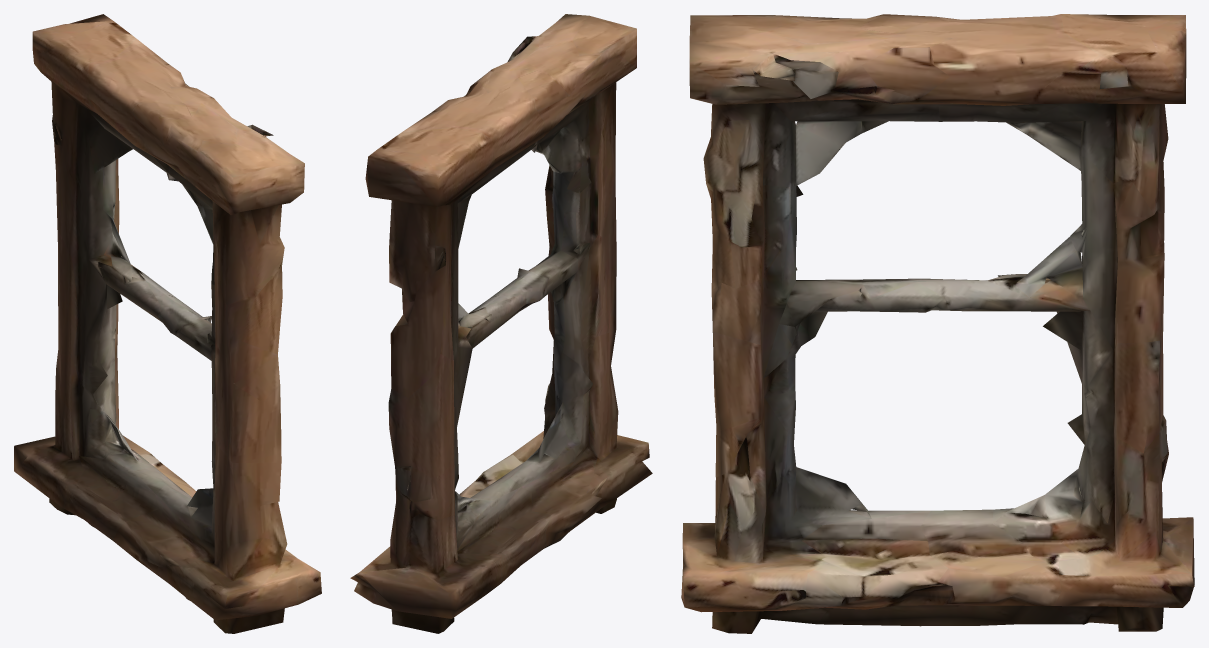
Rendered from d_window.glb.
The picture shows the model from 3 angles, left to right: view 1: azimuth 30°, elevation 25°; view 2: azimuth 150°, elevation 25°; view 3: azimuth 270°, elevation 25°; orthographic projection. The views are drawn at different scales.
Parts seen in each view (by area): view 1: tripo_node_973bf736-e221-4043-8437-502e01ea8661; view 2: tripo_node_973bf736-e221-4043-8437-502e01ea8661; view 3: tripo_node_973bf736-e221-4043-8437-502e01ea8661.
Part boxes in pixels (box(x1,y1,x2,y2)): tripo_node_973bf736-e221-4043-8437-502e01ea8661: box(14, 14, 321, 633); tripo_node_973bf736-e221-4043-8437-502e01ea8661: box(350, 14, 652, 633); tripo_node_973bf736-e221-4043-8437-502e01ea8661: box(681, 14, 1194, 633).
Size of the model in its own units: 0.2352 by 1 by 0.7897.
1 material, 1 textured.
